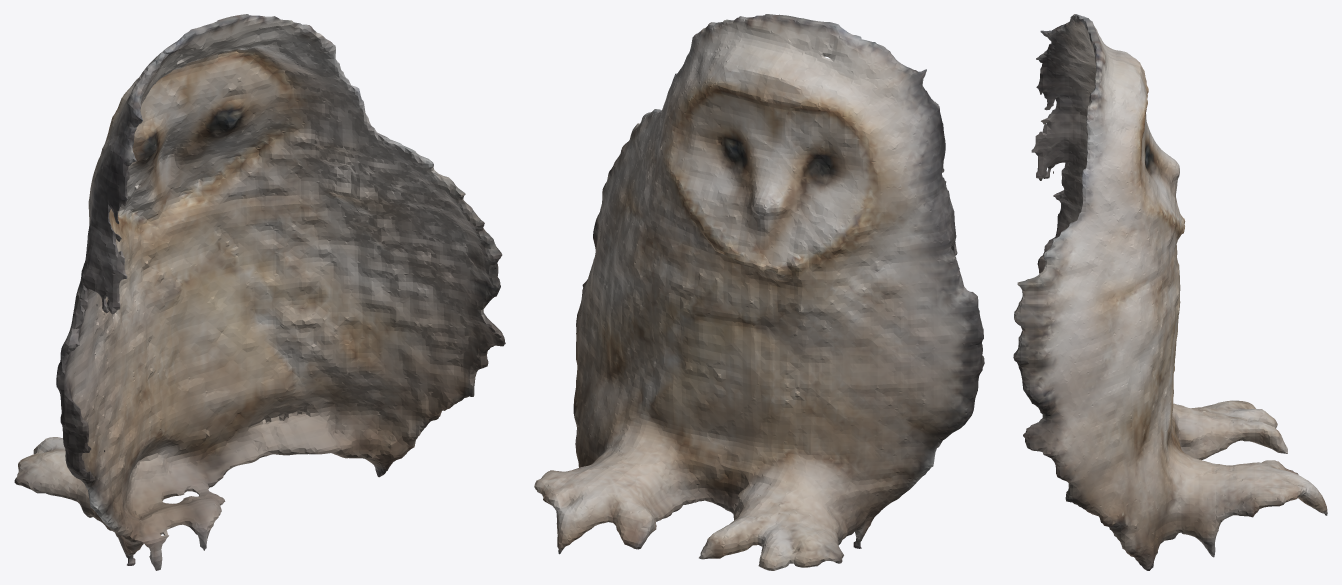
The model's file is run116c_instantmesh_actual_ART_UNAPPROVED.glb.
The picture shows the model from 3 angles, left to right: view 1: azimuth 30°, elevation 25°; view 2: azimuth 150°, elevation 25°; view 3: azimuth 270°, elevation 25°; orthographic projection. The views are drawn at different scales.
Visible parts, largest first — view 1: world; view 2: world; view 3: world.
Part boxes in pixels (x1,y1,x2,y2): world: (14, 14, 505, 570); world: (534, 14, 984, 570); world: (1013, 14, 1327, 570).
Bounding box in the file's own units: 1.64 × 1.94 × 1.19.
